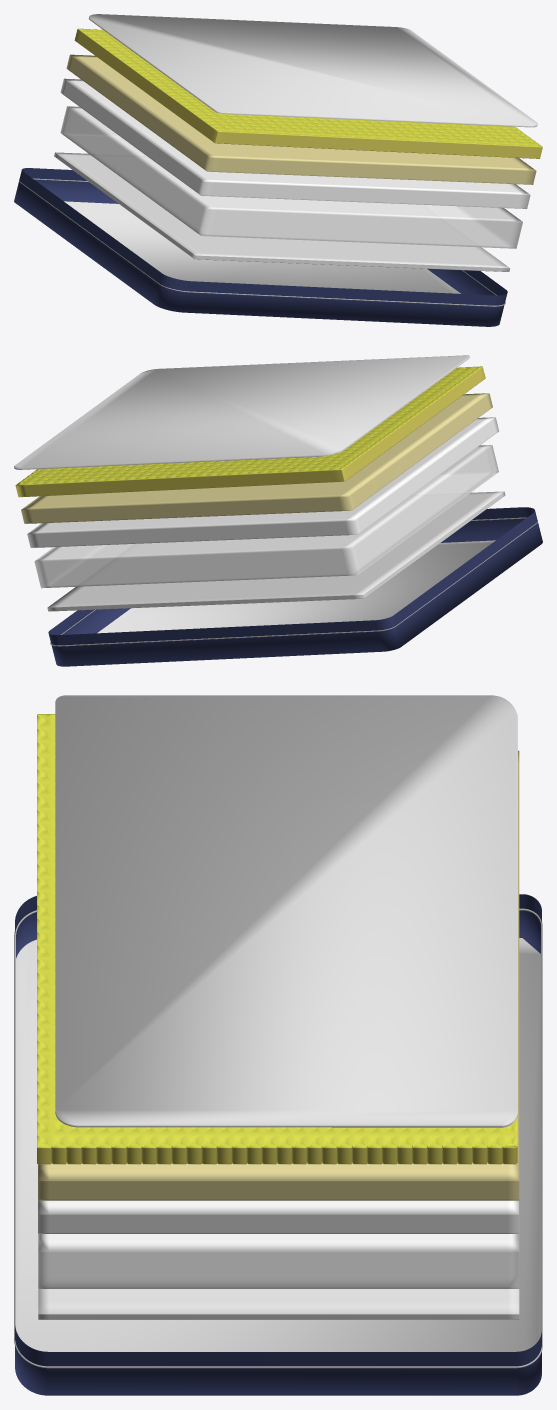
The model's file is Ortho_Organic_Posture_Pedic.glb.
The picture shows the model from 3 angles, top to bottom: view 1: azimuth 30°, elevation 25°; view 2: azimuth 150°, elevation 25°; view 3: azimuth 270°, elevation 25°; orthographic projection. The views are drawn at different scales.
Parts seen in each view (by area): view 1: Cube.107, Cube.109, Cube.106, Cube.111, Cube.103, Cube.110, Cube.108; view 2: Cube.107, Cube.109, Cube.106, Cube.103, Cube.111, Cube.110, Cube.108; view 3: Cube.107, Cube.109, Cube.106, Cube.111, Cube.103, Cube.110, Cube.108.
Boxes of the visible parts, x1,y1,x2,y2 form: Cube.107: (88,14,537,127); Cube.109: (14,168,507,326); Cube.106: (60,106,522,248); Cube.111: (74,28,542,158); Cube.103: (66,54,536,184); Cube.110: (60,78,530,208); Cube.108: (54,152,510,271); Cube.107: (14,355,469,469); Cube.109: (48,507,542,666); Cube.106: (34,445,498,588); Cube.103: (21,393,492,523); Cube.111: (15,366,485,497); Cube.110: (27,417,498,547); Cube.108: (47,491,505,611); Cube.107: (55,695,517,1127); Cube.109: (14,894,542,1395); Cube.106: (38,1201,519,1288); Cube.111: (37,714,517,1164); Cube.103: (38,750,519,1200); Cube.110: (38,1164,518,1233); Cube.108: (38,1289,519,1319).
Size of the model in its own units: 16.06 by 10.77 by 11.01.
12 materials, 1 textured.
